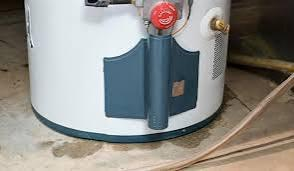water accumulation: (168, 84, 236, 149), (41, 136, 104, 158), (112, 141, 162, 151)
